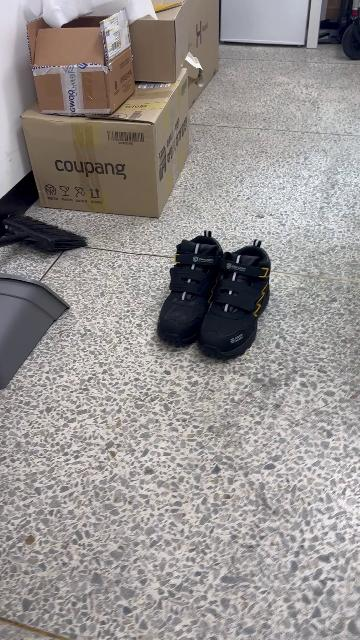shoe_worn: (203, 236, 272, 360), (156, 232, 221, 351)
